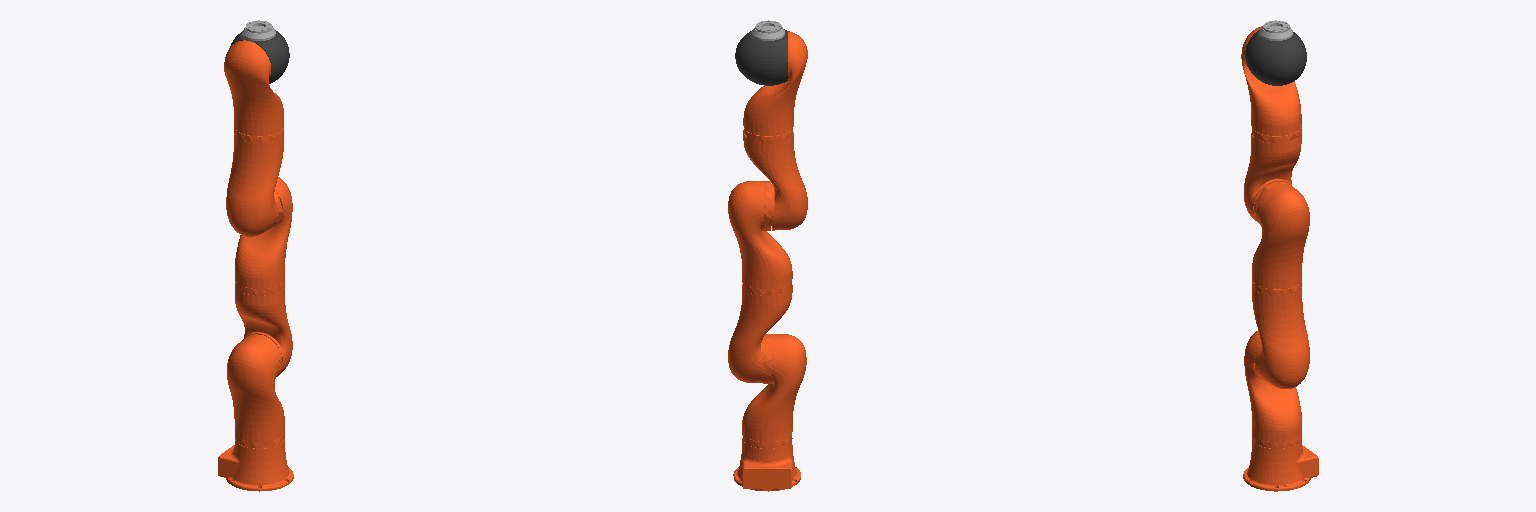
The robot description file, URDF, robot "lwr":
<?xml version="1.0" ?>
<!-- =================================================================================== -->
<!-- |    This document was autogenerated by xacro from kuka_lwr.urdf.xacro            | -->
<!-- |    EDITING THIS FILE BY HAND IS NOT RECOMMENDED                                 | -->
<!-- =================================================================================== -->
<robot name="lwr" xmlns:controller="http://playerstage.sourceforge.net/gazebo/xmlschema/#controller" xmlns:xacro="http://ros.org/wiki/xacro">
  <!-- lbr-->
  <!-- generic simulator_gazebo plugins -->
  <!-- materials for visualization -->
  <material name="color_j0">
    <color rgba="1.0 0.423529411765 0.196078431373 1.0"/>
  </material>
  <material name="color_j1">
    <color rgba="1.0 0.423529411765 0.196078431373 1.0"/>
  </material>
  <material name="color_j2">
    <color rgba="1.0 0.423529411765 0.196078431373 1.0"/>
  </material>
  <material name="color_j3">
    <color rgba="1.0 0.423529411765 0.196078431373 1.0"/>
  </material>
  <material name="color_j4">
    <color rgba="1.0 0.423529411765 0.196078431373 1.0"/>
  </material>
  <material name="color_j5">
    <color rgba="1.0 0.423529411765 0.196078431373 1.0"/>
  </material>
  <material name="color_j6">
    <color rgba="0.3 0.3 0.3 1.0"/>
  </material>
  <material name="color_j7">
    <color rgba="0.7 0.7 0.7 1.0"/>
  </material>
  <!-- world + base link-->
  <link name="world"/>
  <link name="lwr/base_link"/>
  <joint name="lwr/base_joint" type="fixed">
    <parent link="world"/>
    <child link="lwr/base_link"/>
  </joint>
  <gazebo reference="lwr/base_link">
    <static>true</static>
  </gazebo>
  <!--lbr-->
  <joint name="lwr/lwr/base_link_base" type="fixed">
    <gazebo reference="lwr/lwr/base_link_base">
      <provideFeedback>true</provideFeedback>
      <implicitSpringDamper>true</implicitSpringDamper>
    </gazebo>
    <origin rpy="0 0 2.09439510239" xyz="0 0 0.01"/>
    <parent link="lwr/base_link"/>
    <child link="lwr/lwr_0_link"/>
  </joint>
  <link name="lwr/lwr_0_link">
    <inertial>
      <origin rpy="0 0 0" xyz="0 0 0"/>
      <mass value="3.65"/>
      <inertia ixx="0.00805112828804" ixy="0" ixz="0" iyy="0.00845152236845" iyz="0" izz="0.00863585824764"/>
    </inertial>
    <visual>
      <origin rpy="0 0 3.14159265359" xyz="0 0 0"/>
      <geometry>
        <mesh filename="package://lwr_description/meshes/lwr/link0.stl"/>
      </geometry>
      <material name="color_j0"/>
    </visual>
    <collision>
      <origin rpy="0 0 3.14159265359" xyz="0 0 0"/>
      <geometry>
        <mesh filename="package://lwr_description/meshes/lwr/link0.dae"/>
      </geometry>
      <surface>
        <friction>
          <ode>
            <mu>0.998000</mu>
            <mu2>0.998000</mu2>
            <fdir1>0.000000 0.000000 0.000000</fdir1>
            <slip1>0.000000</slip1>
            <slip2>0.000000</slip2>
          </ode>
        </friction>
        <bounce>
          <restitution_coefficient>0.000000</restitution_coefficient>
          <threshold>100000.000000</threshold>
        </bounce>
        <contact>
          <ode>
            <soft_cfm>0.000000</soft_cfm>
            <soft_erp>0.200000</soft_erp>
            <kp>100000.000000</kp>
            <kd>1.000000</kd>
            <max_vel>100.000000</max_vel>
            <min_depth>0.001000</min_depth>
          </ode>
        </contact>
      </surface>
    </collision>
  </link>
  <joint name="lwr/lwr_0_joint" type="revolute">
    <gazebo reference="lwr/lwr_0_joint">
      <provideFeedback>true</provideFeedback>
      <implicitSpringDamper>true</implicitSpringDamper>
    </gazebo>
    <parent link="lwr/lwr_0_link"/>
    <child link="lwr/lwr_1_link"/>
    <limit effort="200.0" lower="-2.96705972839" upper="2.96705972839" velocity="1.96349540849"/>
    <dynamics damping="1.0" friction="0.0"/>
    <origin rpy="0 0 0" xyz="0 0 0.103"/>
    <axis xyz="0 0 1"/>
  </joint>
  <link name="lwr/lwr_1_link">
    <inertial>
      <origin rpy="0.239538165056 0.00537995201801 0.0492155584082" xyz="2.1826998880744087e-05 -0.021623840412335664 -0.07915171924289198"/>
      <mass value="2.0"/>
      <inertia ixx="0.0129545076394" ixy="0" ixz="0" iyy="0.0128178432409" iyz="0" izz="0.00442072765916"/>
    </inertial>
    <visual>
      <origin rpy="0 0 3.14159265359" xyz="0 0 0"/>
      <geometry>
        <mesh filename="package://lwr_description/meshes/lwr/link1.stl"/>
      </geometry>
      <material name="color_j1"/>
    </visual>
    <collision>
      <origin rpy="0 0 3.14159265359" xyz="0 0 0"/>
      <geometry>
        <mesh filename="package://lwr_description/meshes/lwr/link1.dae"/>
      </geometry>
      <surface>
        <friction>
          <ode>
            <mu>0.998000</mu>
            <mu2>0.998000</mu2>
            <fdir1>0.000000 0.000000 0.000000</fdir1>
            <slip1>0.000000</slip1>
            <slip2>0.000000</slip2>
          </ode>
        </friction>
        <bounce>
          <restitution_coefficient>0.000000</restitution_coefficient>
          <threshold>100000.000000</threshold>
        </bounce>
        <contact>
          <ode>
            <soft_cfm>0.000000</soft_cfm>
            <soft_erp>0.200000</soft_erp>
            <kp>100000.000000</kp>
            <kd>1.000000</kd>
            <max_vel>100.000000</max_vel>
            <min_depth>0.001000</min_depth>
          </ode>
        </contact>
      </surface>
    </collision>
  </link>
  <joint name="lwr/lwr_1_joint" type="revolute">
    <gazebo reference="lwr/lwr_1_joint">
      <provideFeedback>true</provideFeedback>
      <implicitSpringDamper>true</implicitSpringDamper>
    </gazebo>
    <parent link="lwr/lwr_1_link"/>
    <child link="lwr/lwr_2_link"/>
    <limit effort="200.0" lower="-2.09439510239" upper="2.09439510239" velocity="1.96349540849"/>
    <dynamics damping="1.0" friction="0.0"/>
    <origin rpy="0 0 0" xyz="0 0 0.2105"/>
    <axis xyz="0 -1 0"/>
  </joint>
  <link name="lwr/lwr_2_link">
    <inertial>
      <origin rpy="0.252444092172 -0.0167820344187 0.0575928285281" xyz="-0.0010097053542516513 0.028478464648332931 0.082033627936009448"/>
      <mass value="2.0"/>
      <inertia ixx="0.0132950018592" ixy="0" ixz="0" iyy="0.0131003199685" iyz="0" izz="0.0044657387969"/>
    </inertial>
    <visual>
      <origin rpy="0 0 3.14159265359" xyz="0 0 0"/>
      <geometry>
        <mesh filename="package://lwr_description/meshes/lwr/link2.stl"/>
      </geometry>
      <material name="color_j2"/>
    </visual>
    <collision>
      <origin rpy="0 0 3.14159265359" xyz="0 0 0"/>
      <geometry>
        <mesh filename="package://lwr_description/meshes/lwr/link2.dae"/>
      </geometry>
      <surface>
        <friction>
          <ode>
            <mu>0.998000</mu>
            <mu2>0.998000</mu2>
          </ode>
        </friction>
      </surface>
    </collision>
  </link>
  <joint name="lwr/lwr_2_joint" type="revolute">
    <gazebo reference="lwr/lwr_2_joint">
      <provideFeedback>true</provideFeedback>
      <implicitSpringDamper>true</implicitSpringDamper>
    </gazebo>
    <parent link="lwr/lwr_2_link"/>
    <child link="lwr/lwr_3_link"/>
    <limit effort="100.0" lower="-2.96705972839" upper="2.96705972839" velocity="1.96349540849"/>
    <dynamics damping="1.0" friction="0.0"/>
    <origin rpy="0 0 0" xyz="0 0 0.192"/>
    <axis xyz="0 0 1"/>
  </joint>
  <link name="lwr/lwr_3_link">
    <inertial>
      <origin rpy="-0.211279484805 -0.0186487662306 -0.00721347462905" xyz="-0.00068512472584392442 0.022787627643261723 -0.078806475454300237"/>
      <mass value="2.0"/>
      <inertia ixx="0.0127763513867" ixy="0" ixz="0" iyy="0.0128011372133" iyz="0" izz="0.0043627376553"/>
    </inertial>
    <visual>
      <origin rpy="0 0 3.14159265359" xyz="0 0 0"/>
      <geometry>
        <mesh filename="package://lwr_description/meshes/lwr/link3.stl"/>
      </geometry>
      <material name="color_j3"/>
    </visual>
    <collision>
      <origin rpy="0 0 3.14159265359" xyz="0 0 0"/>
      <geometry>
        <mesh filename="package://lwr_description/meshes/lwr/link3.dae"/>
      </geometry>
      <surface>
        <friction>
          <ode>
            <mu>0.998000</mu>
            <mu2>0.998000</mu2>
            <fdir1>0.000000 0.000000 0.000000</fdir1>
            <slip1>0.000000</slip1>
            <slip2>0.000000</slip2>
          </ode>
        </friction>
        <bounce>
          <restitution_coefficient>0.000000</restitution_coefficient>
          <threshold>100000.000000</threshold>
        </bounce>
        <contact>
          <ode>
            <soft_cfm>0.000000</soft_cfm>
            <soft_erp>0.200000</soft_erp>
            <kp>100000.000000</kp>
            <kd>1.000000</kd>
            <max_vel>100.000000</max_vel>
            <min_depth>0.001000</min_depth>
          </ode>
        </contact>
      </surface>
    </collision>
  </link>
  <joint name="lwr/lwr_3_joint" type="revolute">
    <gazebo reference="lwr/lwr_3_joint">
      <provideFeedback>true</provideFeedback>
      <implicitSpringDamper>true</implicitSpringDamper>
    </gazebo>
    <parent link="lwr/lwr_3_link"/>
    <child link="lwr/lwr_4_link"/>
    <limit effort="100.0" lower="-2.09439510239" upper="2.09439510239" velocity="1.96349540849"/>
    <dynamics damping="1.0" friction="0.0"/>
    <origin rpy="0 0 0" xyz="0 0.003 0.21"/>
    <axis xyz="0 1 0"/>
  </joint>
  <link name="lwr/lwr_4_link">
    <inertial>
      <origin rpy="0.259090664398 -0.00225330262131 0.0469419954367" xyz="-0.00025120620404353643 0.027040543208881447 0.082599870266635594"/>
      <mass value="2.0"/>
      <inertia ixx="0.0132276730313" ixy="0" ixz="0" iyy="0.0130734228464" iyz="0" izz="0.00439977729281"/>
    </inertial>
    <visual>
      <origin rpy="0 0 3.14159265359" xyz="0 0 0"/>
      <geometry>
        <mesh filename="package://lwr_description/meshes/lwr/link4.stl"/>
      </geometry>
      <material name="color_j4"/>
    </visual>
    <collision>
      <origin rpy="0 0 3.14159265359" xyz="0 0 0"/>
      <geometry>
        <mesh filename="package://lwr_description/meshes/lwr/link4.dae"/>
      </geometry>
      <surface>
        <friction>
          <ode>
            <mu>0.998000</mu>
            <mu2>0.998000</mu2>
            <fdir1>0.000000 0.000000 0.000000</fdir1>
            <slip1>0.000000</slip1>
            <slip2>0.000000</slip2>
          </ode>
        </friction>
        <bounce>
          <restitution_coefficient>0.000000</restitution_coefficient>
          <threshold>100000.000000</threshold>
        </bounce>
        <contact>
          <ode>
            <soft_cfm>0.000000</soft_cfm>
            <soft_erp>0.200000</soft_erp>
            <kp>100000.000000</kp>
            <kd>1.000000</kd>
            <max_vel>100.000000</max_vel>
            <min_depth>0.001000</min_depth>
          </ode>
        </contact>
      </surface>
    </collision>
  </link>
  <joint name="lwr/lwr_4_joint" type="revolute">
    <gazebo reference="lwr/lwr_4_joint">
      <provideFeedback>true</provideFeedback>
      <implicitSpringDamper>true</implicitSpringDamper>
    </gazebo>
    <parent link="lwr/lwr_4_link"/>
    <child link="lwr/lwr_5_link"/>
    <limit effort="100.0" lower="-2.96705972839" upper="2.96705972839" velocity="3.14159265359"/>
    <dynamics damping="1.0" friction="0.0"/>
    <origin rpy="0 0 0" xyz="0 0 0.193"/>
    <axis xyz="0 0 1"/>
  </joint>
  <link name="lwr/lwr_5_link">
    <inertial>
      <origin rpy="-0.399346437469 -0.0238815557936 0.011018430381" xyz="-7.2951660343995983e-05 0.034300558520003806 -0.082836449419419589"/>
      <mass value="2.0"/>
      <inertia ixx="0.0124407882151" ixy="0" ixz="0" iyy="0.0124710412724" iyz="0" izz="0.00438005667842"/>
    </inertial>
    <visual>
      <origin rpy="0 0 3.14159265359" xyz="0 0 0"/>
      <geometry>
        <mesh filename="package://lwr_description/meshes/lwr/link5.stl"/>
      </geometry>
      <material name="color_j5"/>
    </visual>
    <collision>
      <origin rpy="0 0 3.14159265359" xyz="0 0 0"/>
      <geometry>
        <mesh filename="package://lwr_description/meshes/lwr/link5.dae"/>
      </geometry>
      <surface>
        <friction>
          <ode>
            <mu>0.998000</mu>
            <mu2>0.998000</mu2>
            <fdir1>0.000000 0.000000 0.000000</fdir1>
            <slip1>0.000000</slip1>
            <slip2>0.000000</slip2>
          </ode>
        </friction>
        <bounce>
          <restitution_coefficient>0.000000</restitution_coefficient>
          <threshold>100000.000000</threshold>
        </bounce>
        <contact>
          <ode>
            <soft_cfm>0.000000</soft_cfm>
            <soft_erp>0.200000</soft_erp>
            <kp>100000.000000</kp>
            <kd>1.000000</kd>
            <max_vel>100.000000</max_vel>
            <min_depth>0.001000</min_depth>
          </ode>
        </contact>
      </surface>
    </collision>
  </link>
  <joint name="lwr/lwr_5_joint" type="revolute">
    <gazebo reference="lwr/lwr_5_joint">
      <provideFeedback>true</provideFeedback>
      <implicitSpringDamper>true</implicitSpringDamper>
    </gazebo>
    <parent link="lwr/lwr_5_link"/>
    <child link="lwr/lwr_6_link"/>
    <limit effort="30.0" lower="-2.09439510239" upper="2.09439510239" velocity="1.96349540849"/>
    <dynamics damping="1.0" friction="0.0"/>
    <origin rpy="0 0 0" xyz="0 0 0.2"/>
    <axis xyz="0 -1 0"/>
  </joint>
  <link name="lwr/lwr_6_link">
    <inertial>
      <origin rpy="0.0273247151986 -0.416007068876 -0.06463859276" xyz="0.0033265785100209406 -0.00025060639771109469 0.0006250581115164501"/>
      <mass value="2.0"/>
      <inertia ixx="0.00284169077177" ixy="0" ixz="0" iyy="0.00298256896714" iyz="0" izz="0.00296892557443"/>
    </inertial>
    <visual>
      <origin rpy="0 0 3.14159265359" xyz="0 0 0"/>
      <geometry>
        <mesh filename="package://lwr_description/meshes/lwr/link6.stl"/>
      </geometry>
      <material name="color_j6"/>
    </visual>
    <collision>
      <origin rpy="0 0 3.14159265359" xyz="0 0 0"/>
      <geometry>
        <mesh filename="package://lwr_description/meshes/lwr/link6.dae"/>
      </geometry>
      <surface>
        <friction>
          <ode>
            <mu>0.998000</mu>
            <mu2>0.998000</mu2>
            <fdir1>0.000000 0.000000 0.000000</fdir1>
            <slip1>0.000000</slip1>
            <slip2>0.000000</slip2>
          </ode>
        </friction>
        <bounce>
          <restitution_coefficient>0.000000</restitution_coefficient>
          <threshold>100000.000000</threshold>
        </bounce>
        <contact>
          <ode>
            <soft_cfm>0.000000</soft_cfm>
            <soft_erp>0.200000</soft_erp>
            <kp>100000.000000</kp>
            <kd>1.000000</kd>
            <max_vel>100.000000</max_vel>
            <min_depth>0.001000</min_depth>
          </ode>
        </contact>
      </surface>
    </collision>
  </link>
  <joint name="lwr/lwr_6_joint" type="revolute">
    <gazebo reference="lwr/lwr_6_joint">
      <provideFeedback>true</provideFeedback>
      <implicitSpringDamper>true</implicitSpringDamper>
    </gazebo>
    <parent link="lwr/lwr_6_link"/>
    <child link="lwr/lwr_7_link"/>
    <limit effort="30.0" lower="-2.96705972839" upper="2.96705972839" velocity="1.96349540849"/>
    <dynamics damping="1.0" friction="0.0"/>
    <origin rpy="0 0 0" xyz="0 0 0.079"/>
    <axis xyz="0 0 1"/>
  </joint>
  <link name="lwr/lwr_7_link">
    <inertial>
      <origin rpy="-0.00140457256351 -0.0113238487485 -0.621939623896" xyz="-1.0508863000830793e-05 0.00049391465901896074 0.062507829615577853"/>
      <mass value="0.350"/>
      <inertia ixx="0.000581502716972" ixy="0" ixz="0" iyy="0.000584472283068" iyz="0" izz="0.000968983240391"/>
    </inertial>
    <visual>
      <origin rpy="0 0 3.14159265359" xyz="0 0 0"/>
      <geometry>
        <mesh filename="package://lwr_description/meshes/lwr/link7.stl"/>
      </geometry>
      <material name="color_j7"/>
    </visual>
    <collision>
      <origin rpy="0 0 3.14159265359" xyz="0 0 0"/>
      <geometry>
        <mesh filename="package://lwr_description/meshes/lwr/link7.dae"/>
      </geometry>
      <surface>
        <friction>
          <ode>
            <mu>0.998000</mu>
            <mu2>0.998000</mu2>
            <fdir1>0.000000 0.000000 0.000000</fdir1>
            <slip1>0.000000</slip1>
            <slip2>0.000000</slip2>
          </ode>
        </friction>
        <bounce>
          <restitution_coefficient>0.000000</restitution_coefficient>
          <threshold>100000.000000</threshold>
        </bounce>
        <contact>
          <ode>
            <soft_cfm>0.000000</soft_cfm>
            <soft_erp>0.200000</soft_erp>
            <kp>100000.000000</kp>
            <kd>1.000000</kd>
            <max_vel>100.000000</max_vel>
            <min_depth>0.001000</min_depth>
          </ode>
        </contact>
      </surface>
    </collision>
  </link>
  <link name="lwr/kuka_polaris"/>
  <joint name="lwr/tool_joint" type="fixed">
    <parent link="lwr/lwr_7_link"/>
    <child link="lwr/kuka_polaris"/>
    <origin rpy="0 0 0" xyz="0 0 0.055"/>
  </joint>
  <gazebo>
    <plugin filename="librtt_gazebo_deployer.so" name="rtt_gazebo">
      <component>
        <package>rtt_lwr_gazebo</package>
        <type>LWRGazeboComponent</type>
        <name>lwr_gazebo</name>
      </component>
      <!--orocosScript><filename>$(arg ops_script)</filename></orocosScript-->
      <luaScript>
        <filename>none</filename>
      </luaScript>
    </plugin>
  </gazebo>
  <gazebo reference="lwr/lwr_0_link">
    <gravity>true</gravity>
    <material>Gazebo/Orange</material>
  </gazebo>
  <gazebo reference="lwr/lwr_1_link">
    <gravity>true</gravity>
    <material>Gazebo/Orange</material>
  </gazebo>
  <gazebo reference="lwr/lwr_2_link">
    <gravity>true</gravity>
    <material>Gazebo/Orange</material>
  </gazebo>
  <gazebo reference="lwr/lwr_3_link">
    <gravity>true</gravity>
    <material>Gazebo/Orange</material>
  </gazebo>
  <gazebo reference="lwr/lwr_4_link">
    <gravity>true</gravity>
    <material>Gazebo/Orange</material>
  </gazebo>
  <gazebo reference="lwr/lwr_5_link">
    <gravity>true</gravity>
    <material>Gazebo/Orange</material>
  </gazebo>
  <gazebo reference="lwr/lwr_6_link">
    <gravity>true</gravity>
    <material>Gazebo/Grey</material>
  </gazebo>
  <gazebo reference="lwr/lwr_7_link">
    <gravity>true</gravity>
    <material>Gazebo/Grey</material>
  </gazebo>
  <transmission name="lwr/lwr_0_trans">
    <type>transmission_interface/SimpleTransmission</type>
    <joint name="lwr/lwr_0_joint"/>
    <actuator name="lwr/lwr_0_motor">
      <hardwareInterface>EffortJointInterface</hardwareInterface>
      <mechanicalReduction>1</mechanicalReduction>
    </actuator>
  </transmission>
  <transmission name="lwr/lwr_1_trans">
    <type>transmission_interface/SimpleTransmission</type>
    <joint name="lwr/lwr_1_joint"/>
    <actuator name="lwr/lwr_1_motor">
      <hardwareInterface>EffortJointInterface</hardwareInterface>
      <mechanicalReduction>1</mechanicalReduction>
    </actuator>
  </transmission>
  <transmission name="lwr/lwr_2_trans">
    <type>transmission_interface/SimpleTransmission</type>
    <joint name="lwr/lwr_2_joint"/>
    <actuator name="lwr/lwr_2_motor">
      <hardwareInterface>EffortJointInterface</hardwareInterface>
      <mechanicalReduction>1</mechanicalReduction>
    </actuator>
  </transmission>
  <transmission name="lwr/lwr_3_trans">
    <type>transmission_interface/SimpleTransmission</type>
    <joint name="lwr/lwr_3_joint"/>
    <actuator name="lwr/lwr_3_motor">
      <hardwareInterface>EffortJointInterface</hardwareInterface>
      <mechanicalReduction>1</mechanicalReduction>
    </actuator>
  </transmission>
  <transmission name="lwr/lwr_4_trans">
    <type>transmission_interface/SimpleTransmission</type>
    <joint name="lwr/lwr_4_joint"/>
    <actuator name="lwr/lwr_4_motor">
      <hardwareInterface>EffortJointInterface</hardwareInterface>
      <mechanicalReduction>1</mechanicalReduction>
    </actuator>
  </transmission>
  <transmission name="lwr/lwr_5_trans">
    <type>transmission_interface/SimpleTransmission</type>
    <joint name="lwr/lwr_5_joint"/>
    <actuator name="lwr/lwr_5_motor">
      <hardwareInterface>EffortJointInterface</hardwareInterface>
      <mechanicalReduction>1</mechanicalReduction>
    </actuator>
  </transmission>
  <transmission name="lwr/lwr_6_trans">
    <type>transmission_interface/SimpleTransmission</type>
    <joint name="lwr/lwr_6_joint"/>
    <actuator name="lwr/lwr_6_motor">
      <hardwareInterface>EffortJointInterface</hardwareInterface>
      <mechanicalReduction>1</mechanicalReduction>
    </actuator>
  </transmission>
</robot>

--- Render facts (derived) ---
The picture shows the robot from 3 angles, left to right: view 1: azimuth 30°, elevation 25°; view 2: azimuth 150°, elevation 25°; view 3: azimuth 270°, elevation 25°; orthographic projection.
Model lwr with 11 links and 10 joints (7 revolute, 3 fixed), rooted at world, posed all joints at 0.
Visible links, largest first — view 1: lwr/lwr_1_link, lwr/lwr_4_link, lwr/lwr_5_link, lwr/lwr_3_link, lwr/lwr_0_link, lwr/lwr_2_link, lwr/lwr_6_link, lwr/lwr_7_link; view 2: lwr/lwr_3_link, lwr/lwr_1_link, lwr/lwr_4_link, lwr/lwr_2_link, lwr/lwr_5_link, lwr/lwr_0_link, lwr/lwr_6_link, lwr/lwr_7_link; view 3: lwr/lwr_3_link, lwr/lwr_2_link, lwr/lwr_1_link, lwr/lwr_0_link, lwr/lwr_4_link, lwr/lwr_5_link, lwr/lwr_6_link, lwr/lwr_7_link.
Boxes of the visible links, x1=… form: lwr/lwr_1_link: x1=227, y1=334, x2=284, y2=441; lwr/lwr_4_link: x1=226, y1=128, x2=283, y2=236; lwr/lwr_5_link: x1=224, y1=40, x2=283, y2=135; lwr/lwr_3_link: x1=235, y1=177, x2=292, y2=288; lwr/lwr_0_link: x1=218, y1=433, x2=293, y2=491; lwr/lwr_2_link: x1=235, y1=280, x2=292, y2=373; lwr/lwr_6_link: x1=230, y1=30, x2=289, y2=83; lwr/lwr_7_link: x1=242, y1=20, x2=275, y2=40; lwr/lwr_3_link: x1=728, y1=181, x2=792, y2=288; lwr/lwr_1_link: x1=742, y1=334, x2=806, y2=441; lwr/lwr_4_link: x1=743, y1=128, x2=807, y2=230; lwr/lwr_2_link: x1=728, y1=280, x2=792, y2=382; lwr/lwr_5_link: x1=743, y1=31, x2=807, y2=135; lwr/lwr_0_link: x1=733, y1=433, x2=800, y2=491; lwr/lwr_6_link: x1=735, y1=29, x2=787, y2=85; lwr/lwr_7_link: x1=752, y1=20, x2=784, y2=40; lwr/lwr_3_link: x1=1252, y1=182, x2=1309, y2=288; lwr/lwr_2_link: x1=1252, y1=281, x2=1309, y2=388; lwr/lwr_1_link: x1=1244, y1=331, x2=1301, y2=441; lwr/lwr_0_link: x1=1243, y1=433, x2=1318, y2=491; lwr/lwr_4_link: x1=1244, y1=125, x2=1301, y2=224; lwr/lwr_5_link: x1=1241, y1=26, x2=1301, y2=135; lwr/lwr_6_link: x1=1245, y1=29, x2=1306, y2=85; lwr/lwr_7_link: x1=1260, y1=20, x2=1292, y2=40.
Bounding box of the posed robot: 0.1851 × 0.1841 × 1.19 m (x, y, z).
Meshes: 8 distinct files referenced, 8 mesh visuals loaded (8 binary STL).